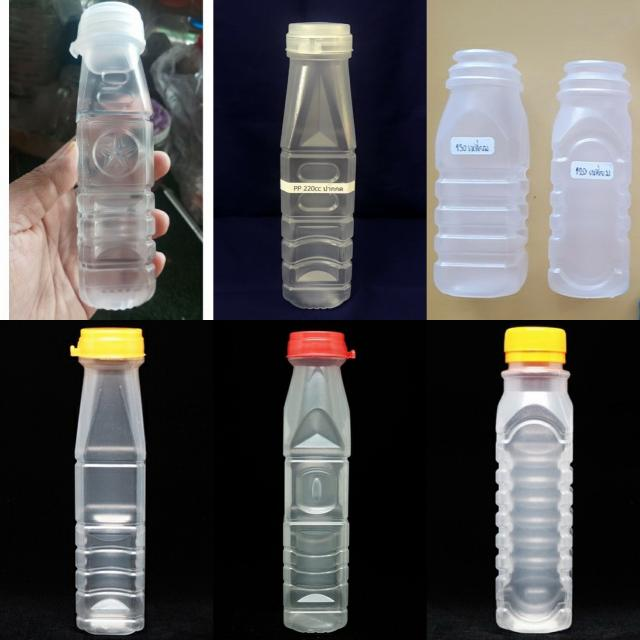Single-Use-Plastic: (70, 1, 156, 310), (434, 49, 530, 297), (496, 327, 572, 632), (70, 328, 145, 634), (280, 23, 356, 309), (284, 332, 355, 632), (548, 60, 632, 299)
